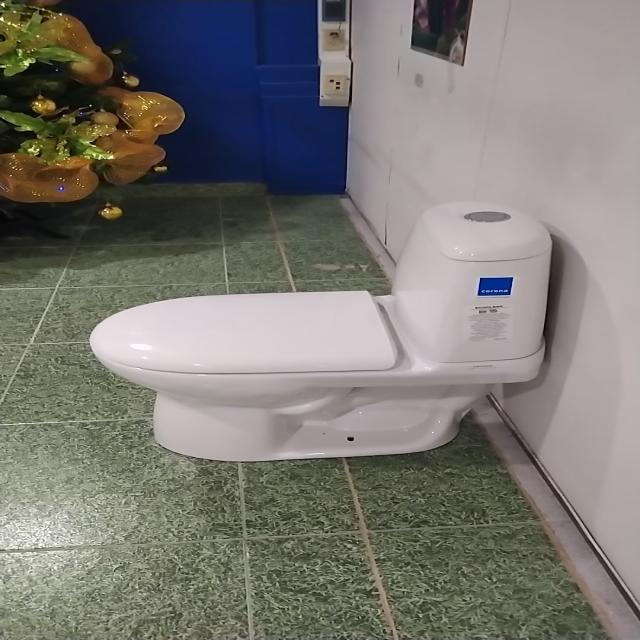toilet: (88, 200, 553, 462)
